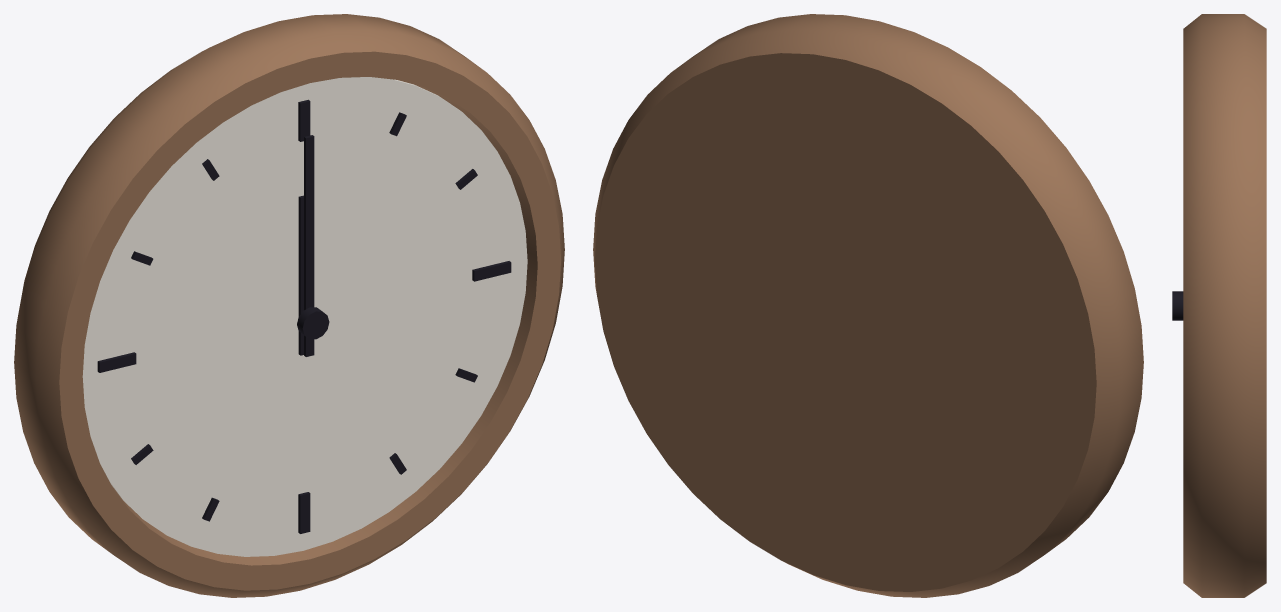
File: wall_clock.fbx
3 renders of one model, left to right at view 1: azimuth 30°, elevation 25°; view 2: azimuth 150°, elevation 25°; view 3: azimuth 270°, elevation 25°, orthographic. The views are drawn at different scales.
Parts seen in each view (by area): view 1: wall_clock, Clock_MinuteHand, Clock_HourHand; view 2: wall_clock; view 3: wall_clock.
Part boxes in pixels (x1=…): wall_clock: x1=14, y1=14, x2=564, y2=597; Clock_MinuteHand: x1=304, y1=135, x2=314, y2=356; Clock_HourHand: x1=298, y1=195, x2=303, y2=355; wall_clock: x1=593, y1=14, x2=1143, y2=597; wall_clock: x1=1172, y1=14, x2=1266, y2=597.
Size of the model in its own units: 0.316 by 0.316 by 0.051.
